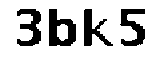3: (15, 8, 44, 48)
5: (119, 4, 150, 50)
b: (47, 5, 80, 49)
k: (83, 5, 116, 52)
